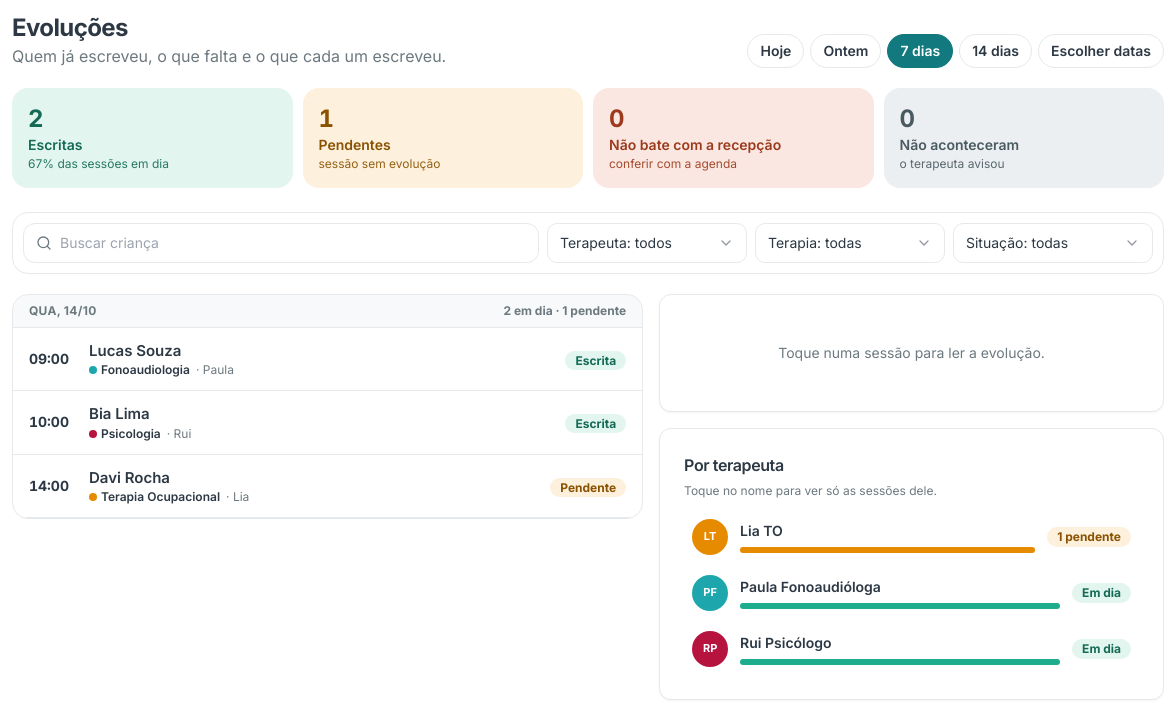
Test: abrir uma sessão mostra a evolução ao lado e as setas passam para a próxima da lista
What coordinates should you click on to do the following:
click the button "09:00 Lucas Souza Fonoaudiologia · Paula Escrita"
I would click on:
 (49, 358)
Its box is left=13, top=328, right=642, bottom=391.
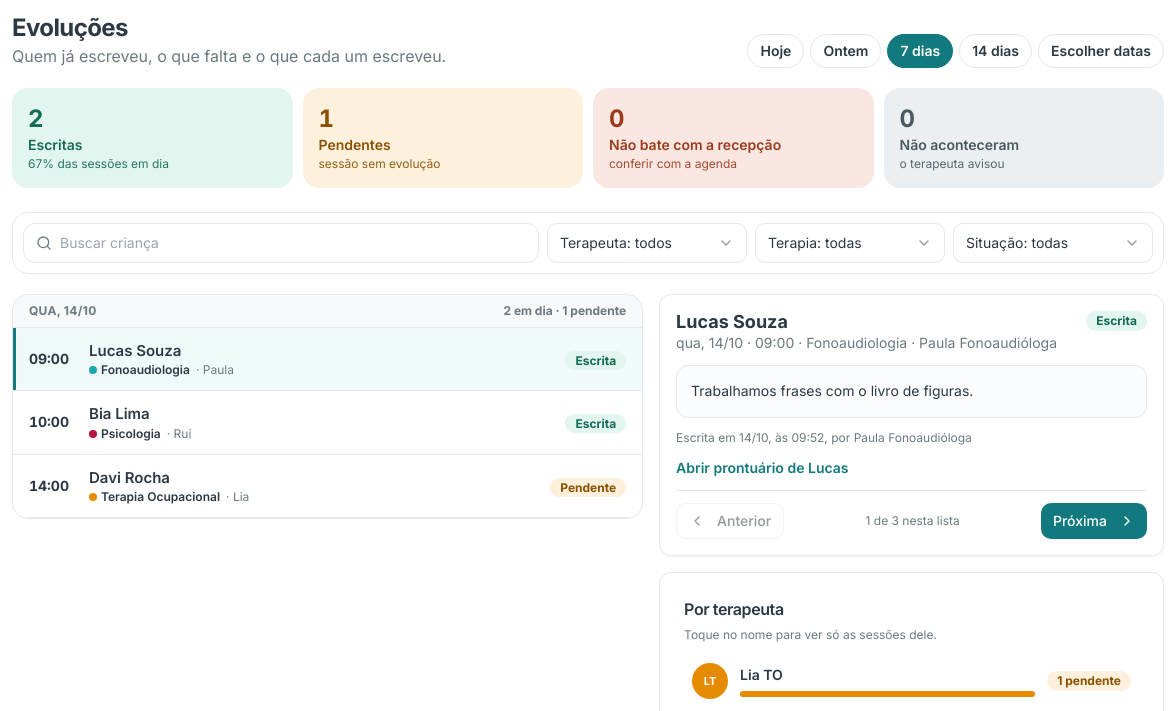
Check: the text "Trabalhamos frases com o livro de figuras." is shown, box left=691, top=382, right=973, bottom=399
Check: the text "1 de 3 nesta lista" is shown, box left=866, top=513, right=960, bottom=529
What coordinates should you click on to do the following:
click the button "Próxima"
I would click on:
 (1094, 521)
Its box is left=1041, top=503, right=1147, bottom=539.
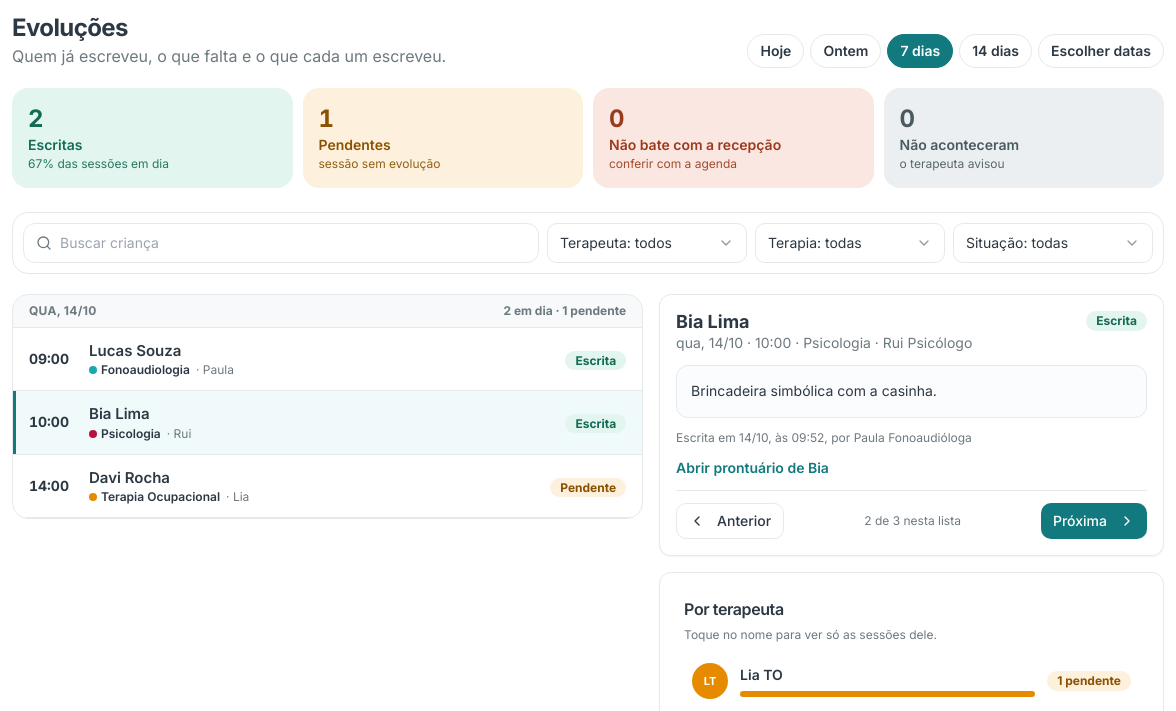
Check: the text "Brincadeira simbólica com a casinha." is shown, box left=691, top=382, right=937, bottom=399
Check: the heading "Bia Lima" is shown, box left=676, top=310, right=750, bottom=332
Check: the text "2 de 3 nesta lista" is shown, box left=864, top=513, right=961, bottom=529
